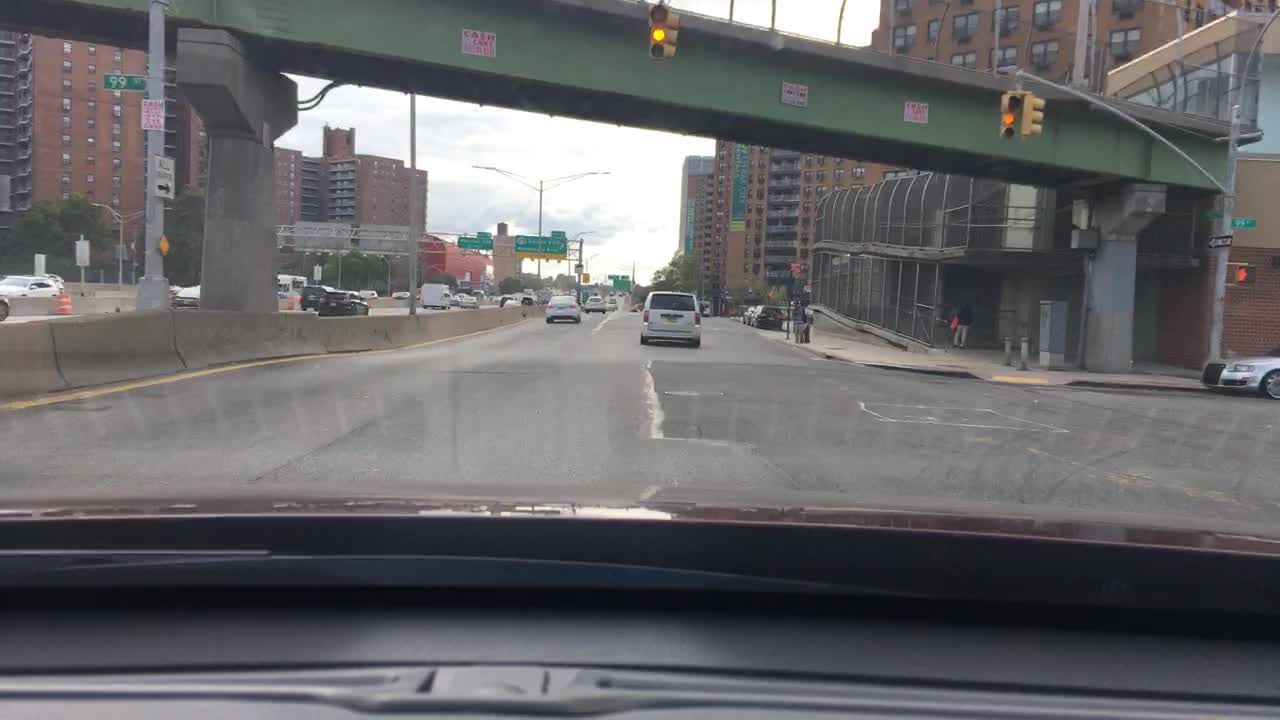car: (1198, 348, 1277, 399), (639, 289, 704, 348), (1, 273, 71, 320), (314, 287, 372, 317), (543, 294, 583, 324), (419, 280, 456, 310), (298, 286, 337, 312), (171, 280, 202, 312), (749, 303, 784, 331), (276, 273, 309, 299), (451, 284, 486, 303), (583, 292, 608, 315), (519, 287, 540, 305), (498, 292, 520, 308), (461, 294, 480, 312), (538, 291, 557, 308), (356, 287, 379, 301), (741, 305, 756, 324), (699, 298, 711, 319), (389, 289, 412, 299), (606, 298, 620, 312), (452, 291, 466, 305), (617, 289, 631, 301), (606, 289, 620, 299)
person: (946, 299, 974, 350), (793, 297, 805, 341), (803, 296, 814, 339), (784, 297, 794, 339)
traffic light: (649, 0, 670, 61), (1023, 88, 1048, 133), (663, 9, 681, 60), (999, 89, 1016, 137), (1235, 264, 1259, 283)
traffic sign: (290, 220, 353, 255), (357, 220, 409, 256), (512, 234, 570, 262), (458, 26, 498, 59), (151, 153, 177, 199), (138, 97, 168, 131), (780, 80, 810, 106), (904, 99, 932, 124), (104, 74, 146, 89), (74, 237, 91, 270), (455, 236, 495, 249), (1206, 229, 1231, 248), (32, 251, 49, 274), (1233, 216, 1259, 230), (154, 234, 170, 255), (1205, 204, 1224, 218), (311, 263, 324, 281), (616, 278, 633, 290), (786, 261, 803, 273), (572, 262, 584, 277), (472, 229, 491, 237), (549, 229, 567, 237), (603, 272, 619, 281), (581, 270, 591, 284)
